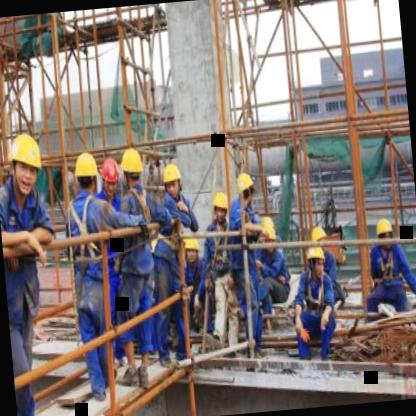helmet: (5, 128, 48, 199), (72, 148, 100, 198), (119, 144, 145, 192), (161, 162, 186, 202), (99, 158, 122, 201), (234, 170, 257, 210), (180, 229, 203, 265), (304, 245, 327, 280), (210, 188, 231, 226), (374, 217, 394, 254), (310, 222, 328, 256)
